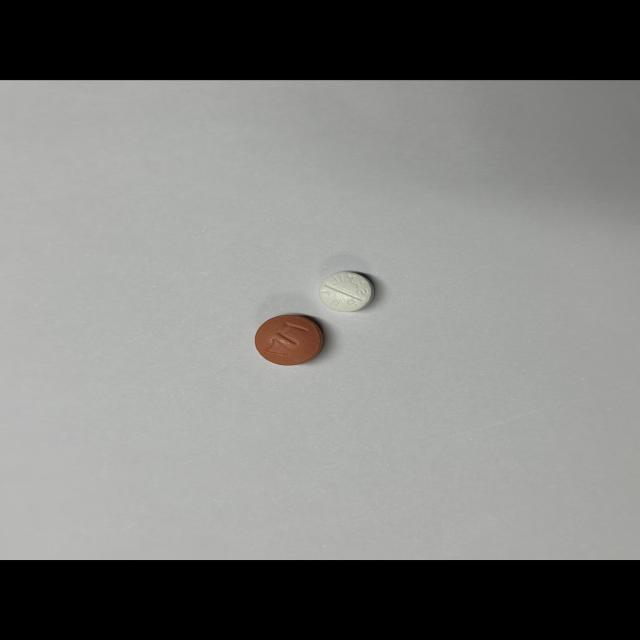Piller: (255, 315, 323, 365), (318, 271, 373, 311)
